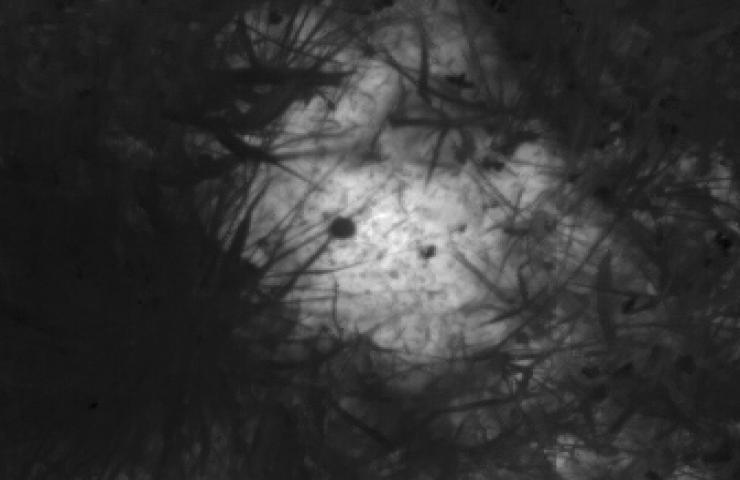landmines: (191, 4, 616, 375)
